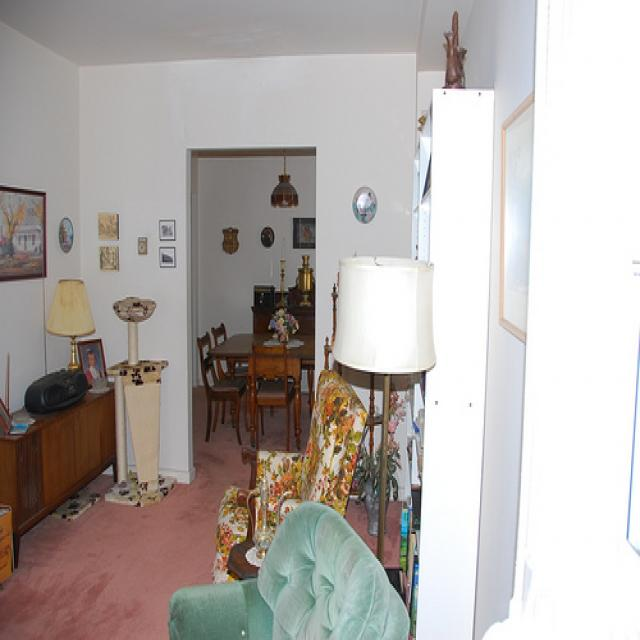chair: (214, 367, 369, 587), (168, 497, 412, 634), (198, 331, 249, 444), (252, 341, 297, 452), (211, 322, 232, 379)
dining table: (206, 332, 316, 359)
